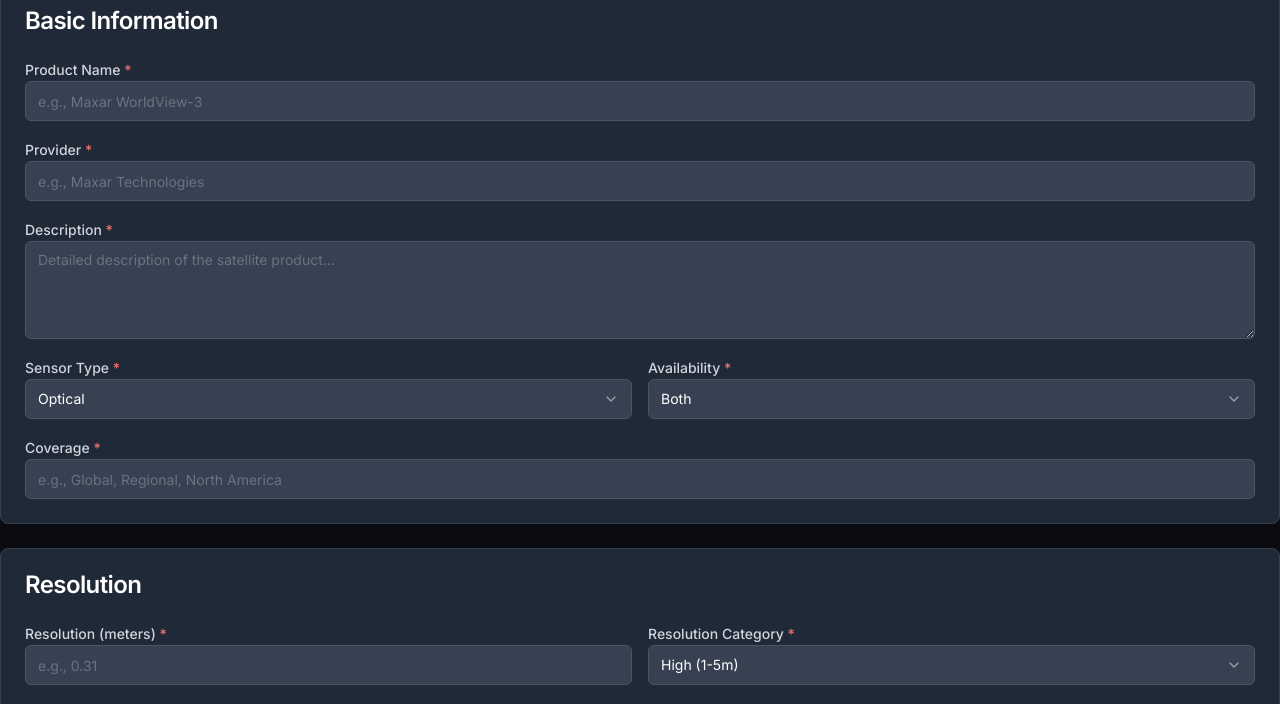
Test: SatelliteProductForm › validates resolution must be greater than 0
The width and height of the screenshot is (1280, 704).
In the number field labelled "Resolution (meters) *": (328, 665) [25,645,632,685], type "0"
(page scrolled)
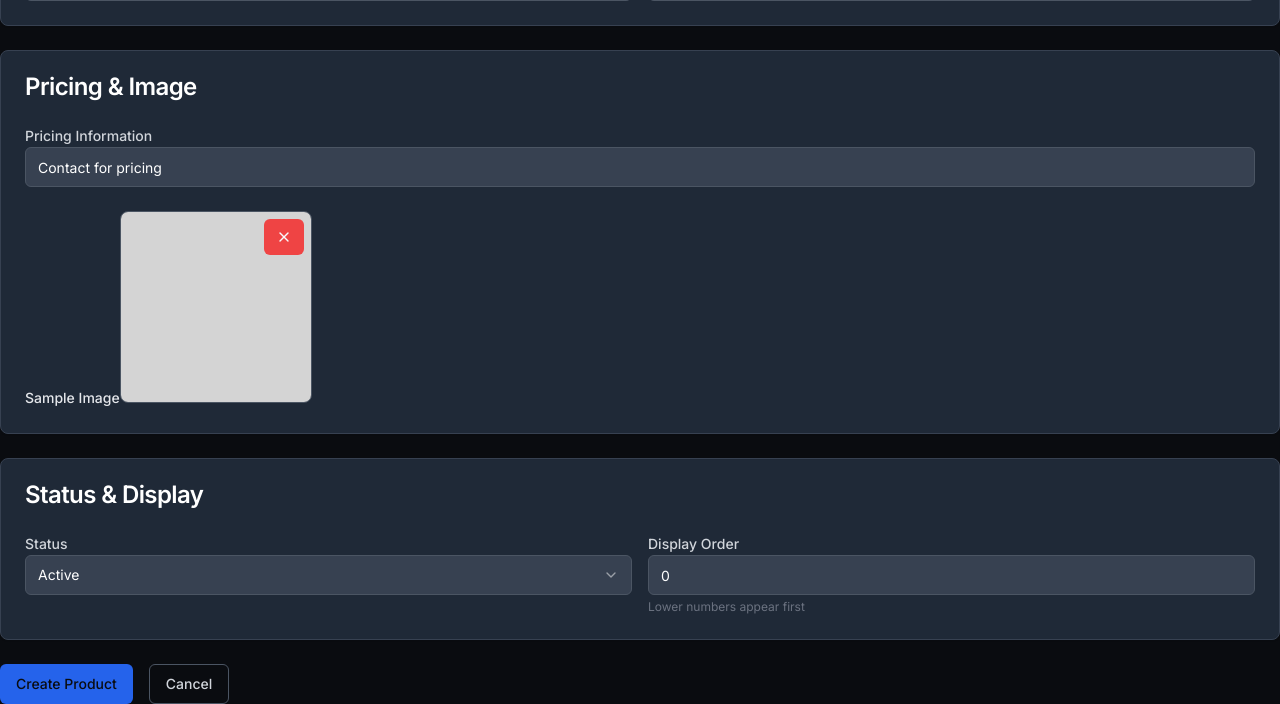
Click the button "Create Product": click(66, 684) [0,664,133,703]
(page scrolled)
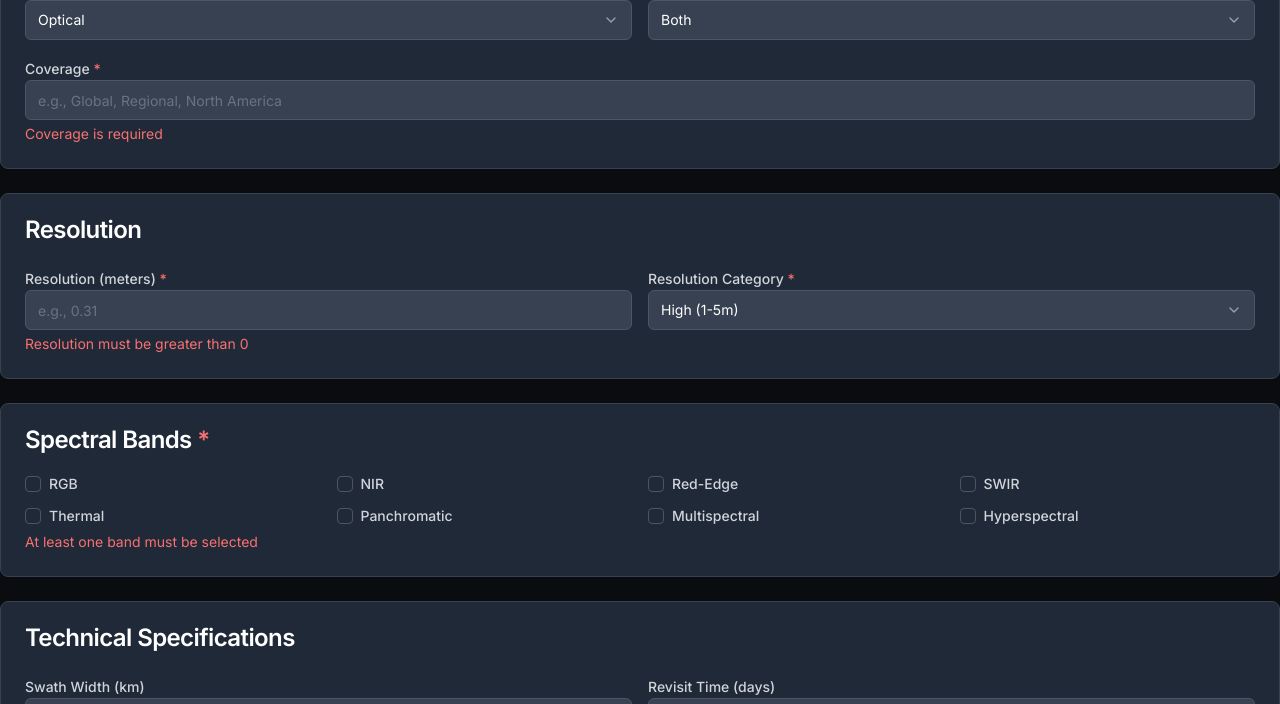
Check: the text "Resolution must be greater than 0" is shown, box [25,335,248,352]
